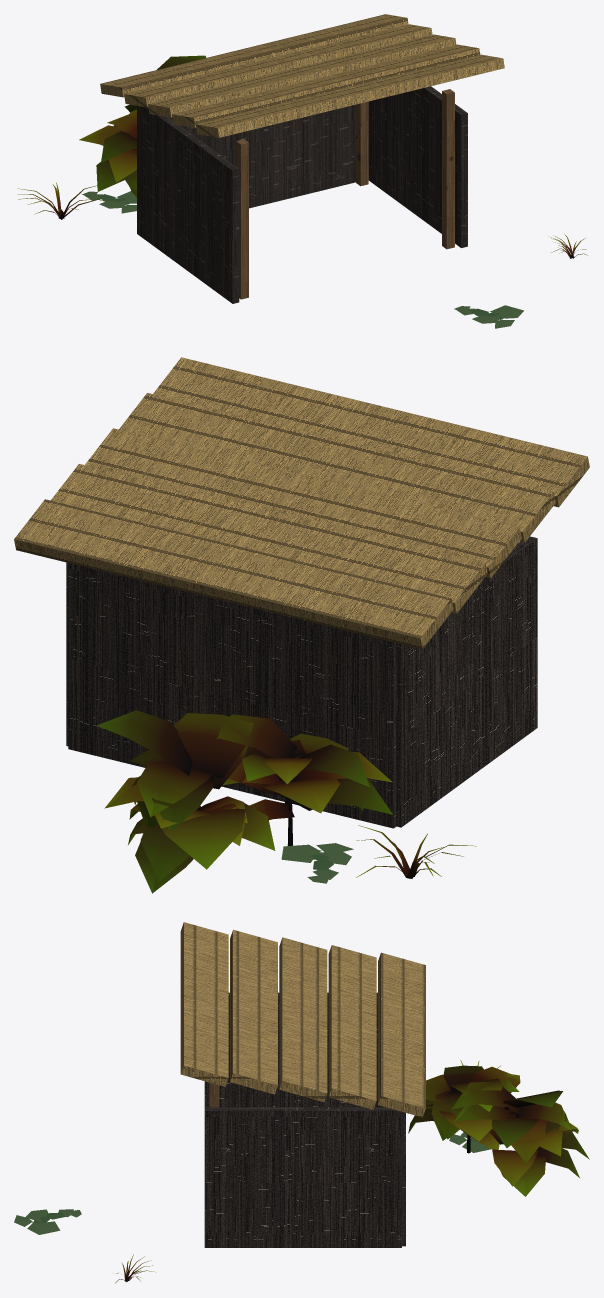
File: lean_to_02.glb
3 renders of one model, top to bottom at view 1: azimuth 30°, elevation 25°; view 2: azimuth 150°, elevation 25°; view 3: azimuth 270°, elevation 25°, orthographic. The views are drawn at different scales.
Visible parts, largest first — view 1: lean_to_02, lean_to_02_veg_01_bush_c, lean_to_02_veg_02_moss_a, lean_to_02_veg_03_moss_a, lean_to_02_veg_05_grass_tuft_c, lean_to_02_veg_00_bush_b; view 2: lean_to_02, lean_to_02_veg_00_bush_b, lean_to_02_veg_01_bush_c, lean_to_02_veg_03_moss_a, lean_to_02_veg_05_grass_tuft_c; view 3: lean_to_02, lean_to_02_veg_00_bush_b, lean_to_02_veg_01_bush_c, lean_to_02_veg_02_moss_a.
Boxes of the visible parts, x1,y1,x2,y2 form: lean_to_02: [100, 14, 504, 303]; lean_to_02_veg_01_bush_c: [79, 114, 136, 197]; lean_to_02_veg_02_moss_a: [454, 305, 523, 328]; lean_to_02_veg_03_moss_a: [82, 191, 136, 213]; lean_to_02_veg_05_grass_tuft_c: [18, 182, 116, 219]; lean_to_02_veg_00_bush_b: [113, 55, 206, 126]; lean_to_02: [14, 357, 589, 828]; lean_to_02_veg_00_bush_b: [96, 710, 275, 893]; lean_to_02_veg_01_bush_c: [216, 714, 392, 845]; lean_to_02_veg_03_moss_a: [281, 843, 353, 883]; lean_to_02_veg_05_grass_tuft_c: [356, 825, 476, 878]; lean_to_02: [180, 922, 425, 1247]; lean_to_02_veg_00_bush_b: [451, 1081, 589, 1196]; lean_to_02_veg_01_bush_c: [408, 1065, 520, 1153]; lean_to_02_veg_02_moss_a: [14, 1209, 81, 1234].
Bounding box in the file's own units: 6.02 × 2.75 × 7.19.
8 materials, 8 textured.
